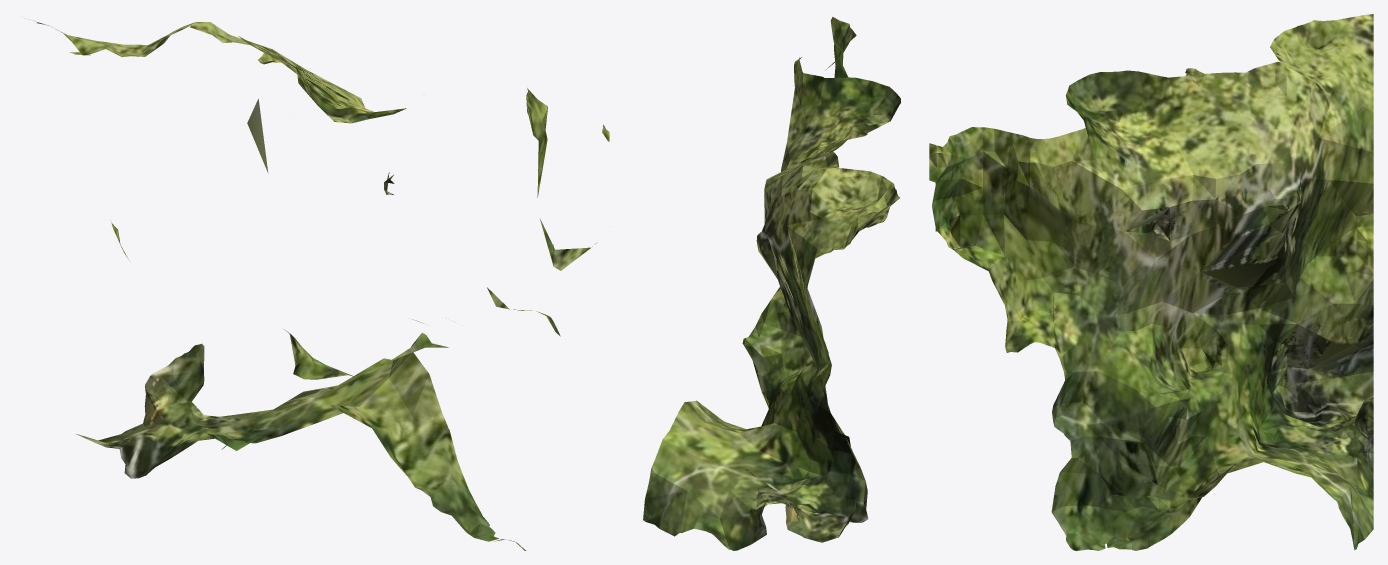
3 renders of one model, left to right at view 1: azimuth 30°, elevation 25°; view 2: azimuth 150°, elevation 25°; view 3: azimuth 270°, elevation 25°, orthographic. The views are drawn at different scales.
Size of the model in its own units: 2.11 by 2.95 by 2.95.
Materials: 3 (3 with a texture image).
